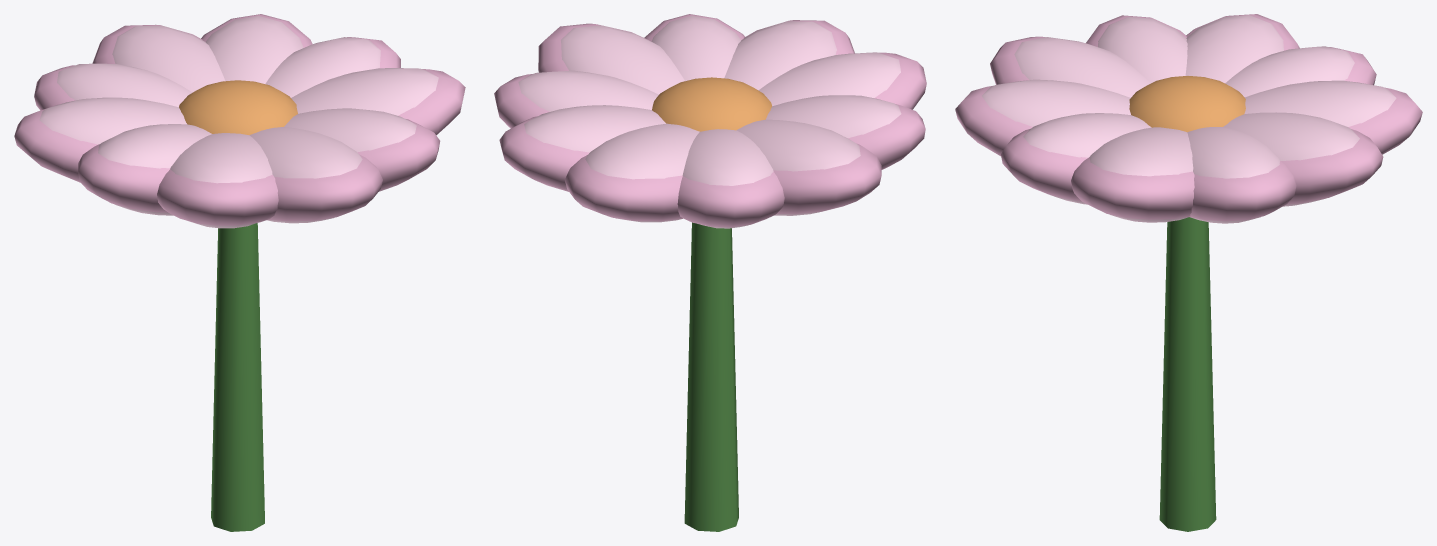
Rendered from cosmos-daisy-flower.glb.
The picture shows the model from 3 angles, left to right: view 1: azimuth 30°, elevation 25°; view 2: azimuth 150°, elevation 25°; view 3: azimuth 270°, elevation 25°; orthographic projection.
Visible parts, largest first — view 1: stem, part_19, center, part_6, part_12, part_16, part_10, part_1, part_2, part_20, part_8, part_14 (+9 smaller); view 2: stem, part_6, center, part_20, part_11, part_2, part_12, part_16, part_13, part_15, part_10, part_8 (+9 smaller); view 3: stem, part_5, center, part_20, part_12, part_2, part_16, part_10, part_7, part_6, part_18, part_14 (+9 smaller).
Boxes of the visible parts, <box> form: stem: <box>211,223,264,531</box>; part_19: <box>157,169,278,225</box>; center: <box>179,80,297,135</box>; part_6: <box>291,68,438,115</box>; part_12: <box>112,25,225,92</box>; part_16: <box>39,97,186,144</box>; part_10: <box>205,16,303,83</box>; part_1: <box>269,154,382,221</box>; part_2: <box>249,127,362,223</box>; part_20: <box>170,133,272,228</box>; part_8: <box>265,37,380,97</box>; part_14: <box>57,63,192,106</box>; stem: <box>684,222,738,531</box>; part_6: <box>561,25,684,94</box>; center: <box>652,77,771,131</box>; part_20: <box>758,52,900,106</box>; part_11: <box>565,155,682,221</box>; part_2: <box>724,21,836,90</box>; part_12: <box>585,123,699,222</box>; part_16: <box>736,119,860,215</box>; part_13: <box>677,172,784,227</box>; part_15: <box>773,143,881,214</box>; part_10: <box>524,105,665,152</box>; part_8: <box>518,70,658,111</box>; stem: <box>1159,217,1216,531</box>; part_5: <box>1071,157,1194,219</box>; center: <box>1129,76,1245,132</box>; part_20: <box>1014,37,1150,97</box>; part_12: <box>1244,80,1396,126</box>; part_2: <box>982,79,1130,126</box>; part_16: <box>1185,15,1283,83</box>; part_10: <box>1223,112,1359,206</box>; part_7: <box>1189,161,1296,221</box>; part_6: <box>1089,127,1193,222</box>; part_18: <box>1098,17,1187,83</box>; part_14: <box>1225,46,1354,97</box>.
Size of the model in its own units: 0.2819 by 0.3055 by 0.2978.
